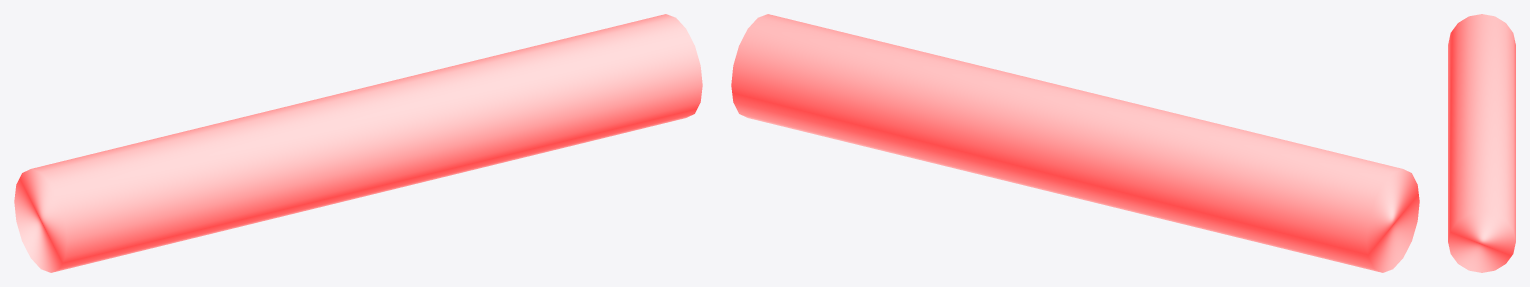
Rendered from projectileLaser.fbx.
3 renders of one model, left to right at view 1: azimuth 30°, elevation 25°; view 2: azimuth 150°, elevation 25°; view 3: azimuth 270°, elevation 25°, orthographic. The views are drawn at different scales.
Parts seen in each view (by area): view 1: laserProjectileMaterial; view 2: laserProjectileMaterial; view 3: laserProjectileMaterial.
Part boxes in pixels (box(x1,y1,x2,y2)): laserProjectileMaterial: box(14, 14, 702, 272); laserProjectileMaterial: box(731, 14, 1419, 272); laserProjectileMaterial: box(1448, 14, 1515, 272).
Bounding box in the file's own units: 13.14 × 1.91 × 1.91.
